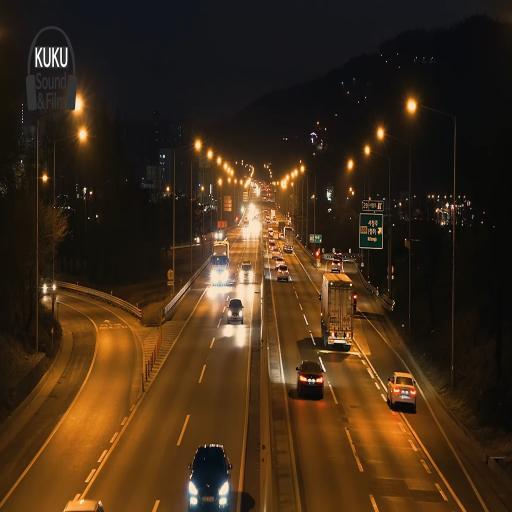car: (185, 443, 230, 512), (294, 360, 324, 394), (388, 371, 416, 406), (228, 302, 242, 324)
truck: (321, 275, 355, 353)
